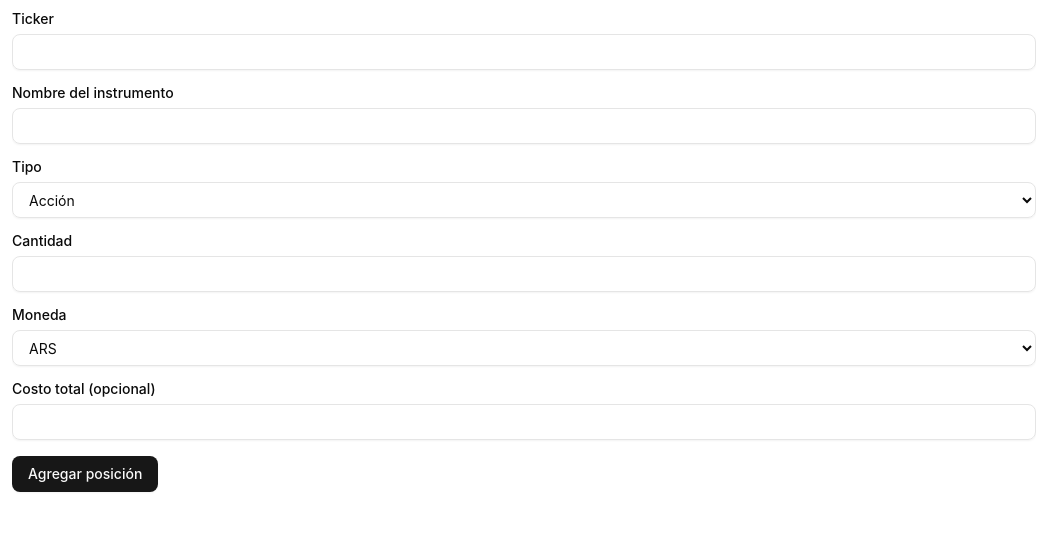
AddHoldingForm › shows the ambiguity message for 1.000 in Spanish
Type "AAPL" into the field labelled "Ticker".
click(524, 52); type("AAPL")  # box [12,34,1036,70]
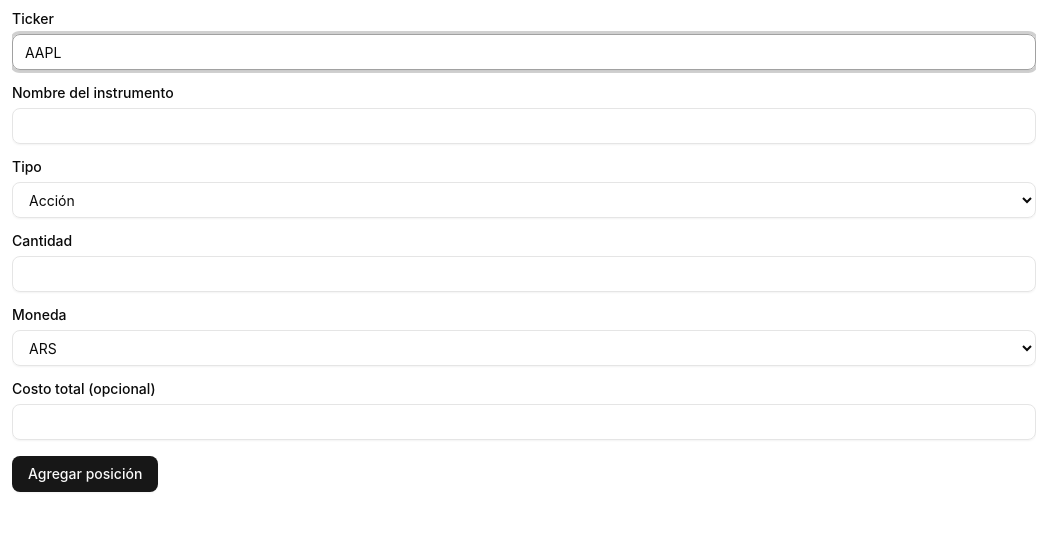
Type "Apple" into the field labelled "Nombre del instrumento".
click(524, 126); type("Apple")  # box [12,108,1036,144]
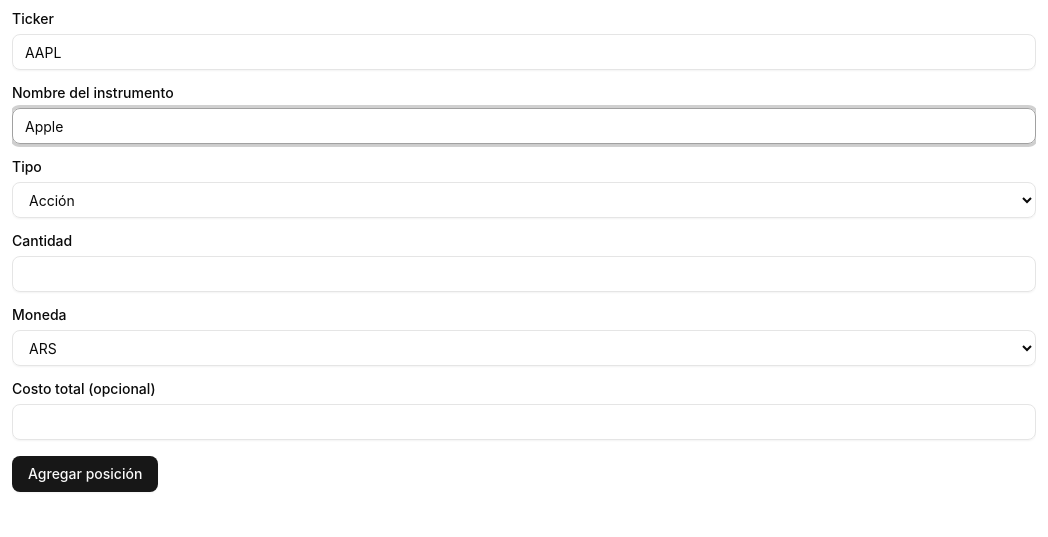
Type "1.000" into the field labelled "Cantidad".
click(524, 274); type("1.000")  # box [12,256,1036,292]
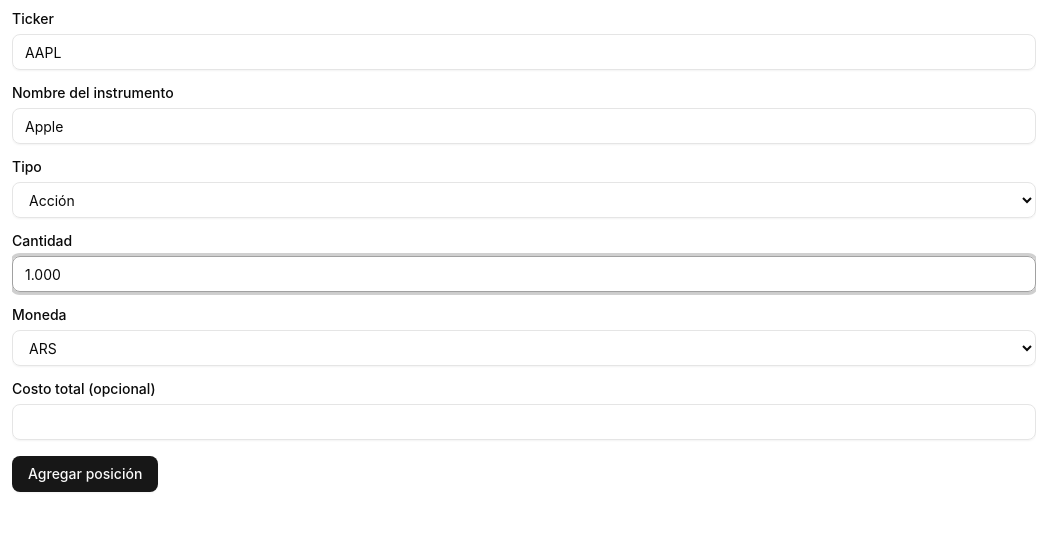
Click the button "Agregar posición".
click(85, 474)  # box [12,456,158,492]
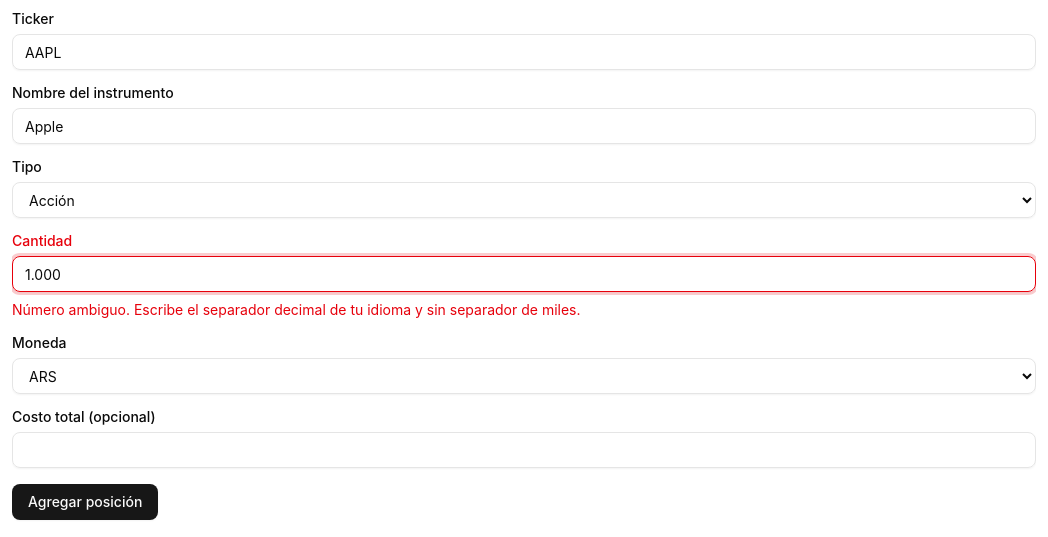
Expected: the text "Número ambiguo. Escribe el separador decimal de tu idioma y sin separador de miles." is shown, [12,301,580,318]
